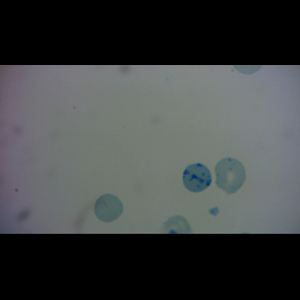aggregate reticulocyte: (181, 162, 213, 193)
punctate reticulocyte: (214, 156, 247, 195), (93, 193, 125, 223)
